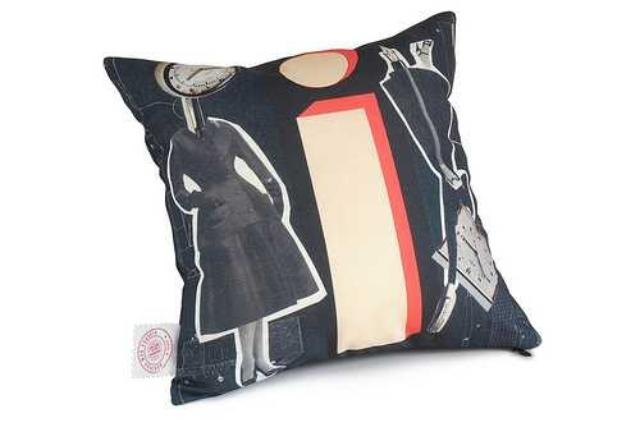pillow: (103, 10, 542, 406)
